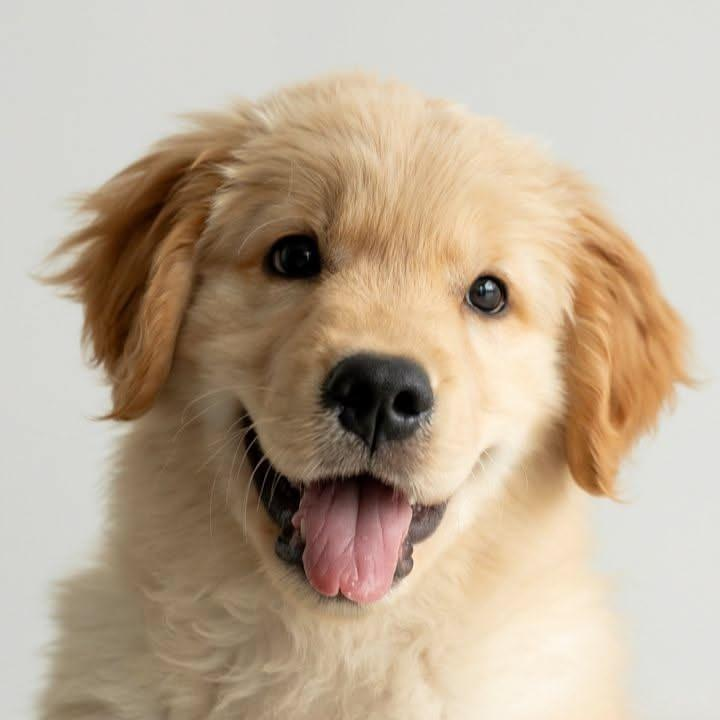puppy-dog: (34, 75, 698, 720)
